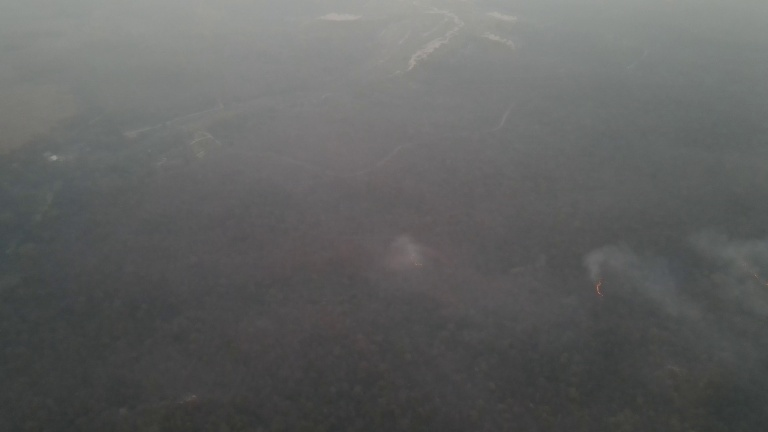fire: (592, 275, 608, 307)
smoke: (562, 224, 768, 327), (361, 225, 440, 288)
